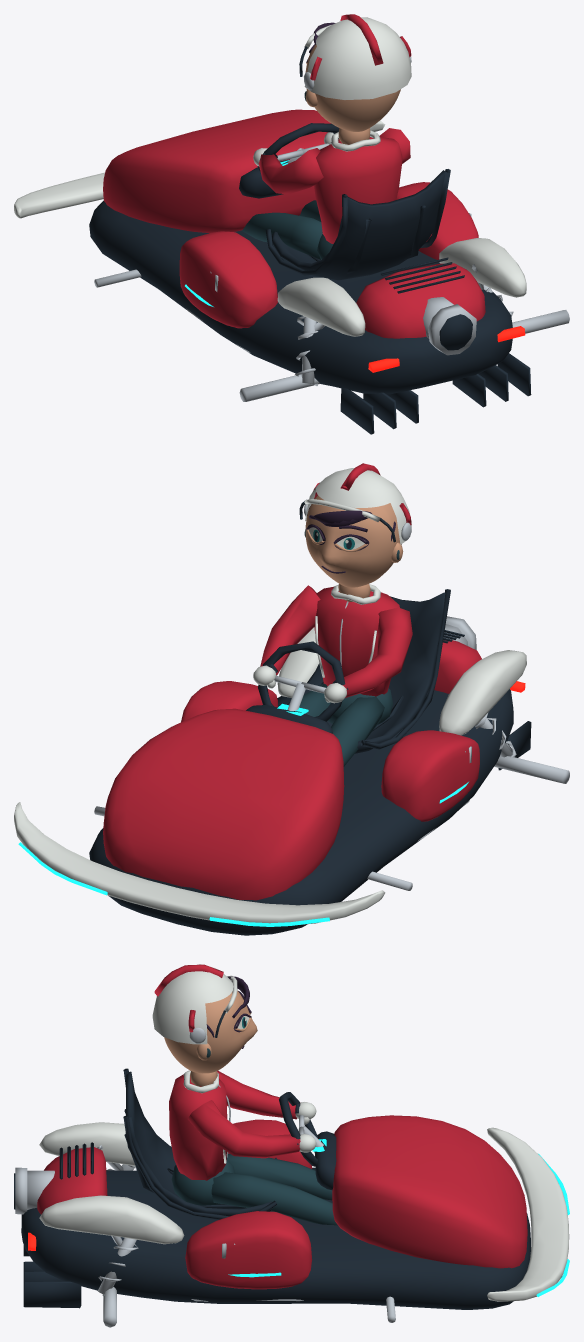
The model's file is kestrel-kart-v2.glb.
3 views of the same model, one above another, from view 1: azimuth 30°, elevation 25°; view 2: azimuth 150°, elevation 25°; view 3: azimuth 270°, elevation 25° (orthographic). The views are drawn at different scales.
Visible parts, largest first — view 1: ContinuousLowerHull, SculptedProw, SweptFrontApron, FittedRacingJacket, PodVent-1_0, AsterContinuousFace, EarInset-1, ContinuousSleeve-1, TailLightHousing-1; view 2: SculptedProw, ContinuousLowerHull, SweptFrontApron, AsterContinuousFace, FittedRacingJacket, PodVent-1_0, EarInset-1, ContinuousSleeve-1, ContinuousSleeve1, InstrumentScreen, EyeSocket-1; view 3: SculptedProw, ContinuousLowerHull, SweptFrontApron, EarInset-1, FittedRacingJacket, AsterContinuousFace, PodVent-1_0, ContinuousSleeve1, ContinuousSleeve-1, InstrumentScreen, EyeSocket-1.
Part boxes in pixels (x1,y1,x2,y2): ContinuousLowerHull: (89, 46, 531, 434); SculptedProw: (103, 14, 485, 338); SweptFrontApron: (14, 17, 526, 336); FittedRacingJacket: (314, 137, 402, 243); PodVent-1_0: (94, 56, 569, 401); AsterContinuousFace: (305, 44, 400, 144); EarInset-1: (241, 91, 333, 259); ContinuousSleeve-1: (258, 148, 323, 194); TailLightHousing-1: (368, 326, 525, 372); SculptedProw: (103, 463, 481, 900); ContinuousLowerHull: (89, 499, 531, 935); SweptFrontApron: (14, 468, 526, 924); AsterContinuousFace: (305, 495, 403, 601); FittedRacingJacket: (314, 586, 399, 696); PodVent-1_0: (94, 504, 569, 890); EarInset-1: (299, 529, 399, 766); ContinuousSleeve-1: (342, 607, 412, 697); ContinuousSleeve1: (260, 585, 320, 675); InstrumentScreen: (18, 703, 468, 926); EyeSocket-1: (306, 506, 395, 573); SculptedProw: (37, 964, 527, 1289); ContinuousLowerHull: (14, 1010, 530, 1309); SweptFrontApron: (39, 964, 569, 1301); EarInset-1: (171, 1048, 337, 1225); FittedRacingJacket: (169, 1074, 227, 1180); AsterContinuousFace: (164, 991, 257, 1086); PodVent-1_0: (15, 1027, 395, 1327); ContinuousSleeve1: (188, 1100, 300, 1158); ContinuousSleeve-1: (217, 1071, 297, 1119); InstrumentScreen: (228, 1139, 569, 1296); EyeSocket-1: (206, 976, 251, 1048).
Size of the model in its own units: 1.63 by 1.41 by 2.31.
